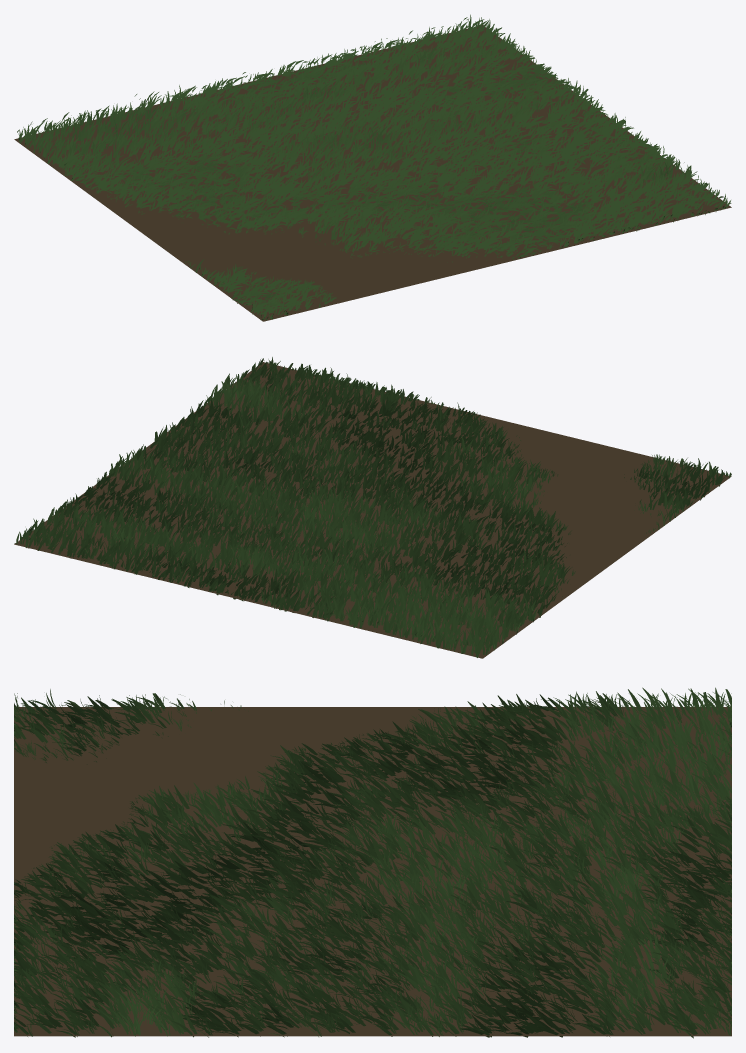
Rendered from ground_p4.glb.
The picture shows the model from 3 angles, top to bottom: view 1: azimuth 30°, elevation 25°; view 2: azimuth 150°, elevation 25°; view 3: azimuth 270°, elevation 25°; orthographic projection. The views are drawn at different scales.
Parts seen in each view (by area): view 1: Ground_P4; view 2: Ground_P4; view 3: Ground_P4.
Boxes of the visible parts, x1,y1,x2,y2 form: Ground_P4: (14, 14, 731, 321); Ground_P4: (14, 357, 731, 658); Ground_P4: (14, 687, 731, 1038).
Bounding box in the file's own units: 19 × 0.8007 × 17.5.
